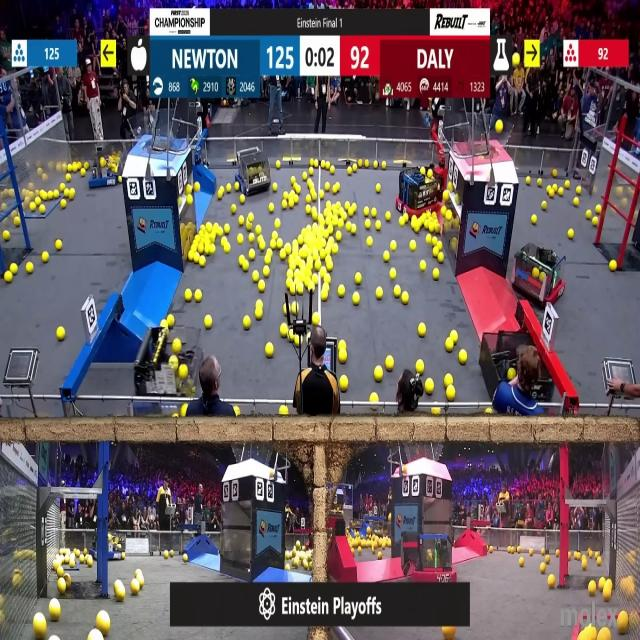ball_airborne: (514, 54, 522, 68), (496, 119, 503, 132)
ball_ground: (49, 599, 60, 621), (447, 386, 456, 401), (425, 379, 434, 394), (599, 628, 610, 640), (386, 355, 394, 371), (341, 377, 349, 392), (59, 580, 67, 595), (418, 322, 426, 336), (267, 344, 275, 358), (375, 366, 383, 380), (244, 316, 252, 329), (280, 324, 288, 337), (416, 360, 424, 373), (58, 326, 66, 339), (589, 582, 597, 595), (603, 589, 611, 602), (460, 350, 467, 364), (205, 315, 212, 329), (133, 582, 140, 596), (194, 289, 202, 301), (312, 313, 320, 325), (180, 406, 188, 418), (451, 329, 459, 341), (168, 315, 175, 328), (325, 260, 332, 273), (341, 351, 348, 364), (280, 407, 288, 418), (446, 375, 454, 386), (432, 269, 439, 281), (377, 287, 384, 299), (394, 286, 401, 298), (401, 291, 408, 303), (353, 292, 360, 304), (339, 285, 346, 297), (609, 261, 616, 273), (248, 248, 255, 260), (431, 220, 438, 232), (369, 392, 377, 402), (208, 245, 216, 255), (27, 264, 34, 275), (252, 272, 259, 283), (69, 187, 76, 198), (258, 280, 264, 292), (356, 273, 362, 285), (411, 240, 417, 252), (42, 251, 48, 263), (447, 340, 453, 352), (6, 272, 12, 284), (185, 288, 191, 300), (336, 232, 343, 242), (200, 256, 207, 266), (255, 310, 262, 320), (432, 408, 439, 418), (334, 182, 341, 192), (420, 262, 427, 272), (258, 240, 265, 250), (214, 225, 221, 235), (390, 269, 396, 280), (57, 240, 63, 251), (11, 265, 17, 276), (390, 241, 396, 252), (280, 249, 286, 260), (293, 337, 299, 348), (298, 247, 304, 258), (286, 270, 294, 278), (248, 235, 255, 244), (12, 217, 19, 226), (312, 275, 319, 284), (540, 202, 547, 211), (384, 251, 390, 261), (439, 252, 445, 262), (264, 268, 270, 278), (223, 224, 229, 234), (4, 232, 10, 242), (593, 216, 599, 226), (58, 237, 64, 247), (322, 289, 328, 299), (199, 244, 205, 254), (59, 566, 65, 576), (266, 254, 272, 264), (296, 284, 302, 294), (193, 182, 199, 192), (271, 240, 277, 250), (573, 198, 579, 208), (188, 251, 194, 261), (331, 245, 337, 255), (311, 190, 317, 200), (192, 252, 198, 262), (398, 216, 404, 226), (546, 184, 552, 194), (341, 341, 348, 349), (525, 177, 532, 185), (54, 190, 61, 198), (364, 219, 371, 227), (317, 216, 324, 224), (64, 188, 70, 197), (254, 224, 260, 233), (370, 208, 376, 217), (596, 205, 602, 214), (432, 248, 438, 257), (238, 216, 244, 225), (346, 221, 352, 230), (423, 219, 429, 228), (239, 255, 245, 264), (206, 222, 212, 231), (540, 563, 546, 572), (599, 576, 605, 585), (186, 184, 192, 193), (293, 270, 299, 279), (377, 219, 382, 229), (366, 237, 371, 247), (568, 230, 573, 240), (315, 262, 320, 272), (364, 207, 369, 217), (236, 182, 241, 192), (276, 218, 281, 228), (486, 409, 493, 416), (248, 213, 254, 221), (222, 244, 228, 252), (272, 232, 278, 240), (276, 162, 282, 170), (246, 222, 252, 230), (282, 202, 288, 210), (288, 200, 294, 208), (317, 190, 323, 198), (293, 184, 299, 192), (62, 201, 68, 209), (268, 248, 274, 256), (336, 202, 342, 210), (573, 552, 579, 560), (40, 205, 45, 214), (532, 215, 537, 224), (348, 167, 353, 176), (89, 558, 94, 567), (351, 224, 356, 233), (445, 190, 450, 199), (587, 210, 592, 219), (289, 191, 294, 200), (432, 238, 438, 245), (326, 226, 332, 233), (312, 213, 318, 220), (377, 184, 382, 192), (273, 183, 278, 191), (244, 264, 249, 272), (237, 408, 241, 418), (386, 212, 391, 220), (536, 178, 541, 186), (188, 196, 192, 206), (290, 286, 295, 294), (559, 187, 564, 195), (352, 165, 357, 173), (165, 552, 170, 560), (298, 238, 303, 246), (46, 190, 51, 198), (553, 170, 558, 178), (233, 204, 237, 213), (520, 557, 524, 566), (307, 206, 311, 215), (218, 189, 222, 198), (6, 231, 10, 240), (183, 555, 188, 562), (201, 223, 206, 230), (80, 170, 85, 177), (67, 173, 71, 181), (378, 552, 382, 560), (226, 184, 230, 192), (284, 190, 288, 198), (330, 167, 334, 175), (390, 239, 394, 247), (307, 194, 311, 202), (340, 219, 344, 227), (346, 202, 350, 210), (388, 514, 392, 522), (489, 545, 494, 551), (536, 216, 539, 226), (582, 558, 585, 568), (284, 306, 287, 316), (507, 545, 512, 551), (568, 553, 572, 560), (576, 186, 580, 193), (291, 177, 295, 184), (241, 195, 245, 202), (566, 184, 570, 190), (556, 551, 560, 557), (294, 198, 298, 204), (61, 183, 65, 189), (121, 553, 124, 560), (220, 186, 223, 191), (359, 550, 361, 554)
goal: (460, 118, 514, 160), (129, 118, 187, 152)
robot_blue: (132, 330, 197, 414), (236, 151, 270, 196), (88, 145, 119, 188)
robot_red: (514, 248, 564, 308), (414, 522, 456, 584), (398, 165, 444, 214)
